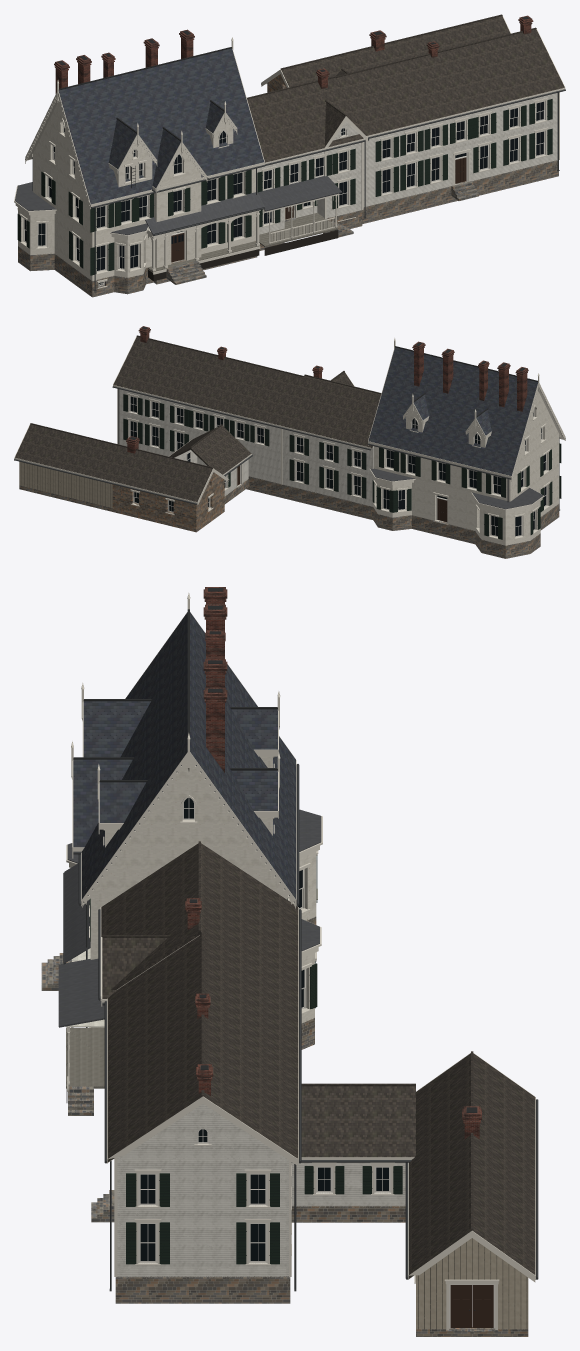
Rendered from foxleigh_reconstruction_002.glb.
The picture shows the model from 3 angles, top to bottom: view 1: azimuth 30°, elevation 25°; view 2: azimuth 150°, elevation 25°; view 3: azimuth 270°, elevation 25°; orthographic projection. The views are drawn at different scales.
Parts seen in each view (by area): view 1: core_slate_plan, trustees_shingle_plan, core_paintBrick_photo, trustees_siding_photo, frame_shingle_plan, service_shingle_plan, trustees_shutter_photo, core_trim_photo, core_paintBrick_plan, trustees_stone_plan, core_shutter_photo, trustees_glass_photo (+35 smaller); view 2: core_slate_plan, trustees_shingle_plan, service_shingle_plan, core_paintBrick_plan, frame_shingle_plan, trustees_siding_plan, service_annexStone_plan, frame_siding_plan, core_paintBrick_photo, core_stone_plan, service_batten_plan, core_trim_plan (+26 smaller); view 3: trustees_shingle_plan, service_shingle_plan, core_slate_plan, trustees_siding_plan, frame_shingle_plan, core_paintBrick_plan, core_slate_photo, service_batten_plan, trustees_stone_plan, trustees_trim_plan, core_trim_plan, trustees_shutter_plan (+17 smaller).
Part boxes in pixels (box(x1,y1,x2,y2)): core_slate_plan: box(58, 48, 264, 207); trustees_shingle_plan: box(335, 27, 564, 135); core_paintBrick_photo: box(33, 101, 233, 280); trustees_siding_photo: box(363, 93, 556, 207); frame_shingle_plan: box(247, 76, 363, 162); service_shingle_plan: box(280, 14, 510, 87); trustees_shutter_photo: box(375, 99, 552, 196); core_trim_photo: box(43, 101, 260, 288); core_paintBrick_plan: box(18, 154, 257, 267); trustees_stone_plan: box(362, 160, 558, 223); core_shutter_photo: box(41, 171, 190, 275); trustees_glass_photo: box(382, 101, 543, 192); core_slate_plan: box(368, 347, 537, 475); trustees_shingle_plan: box(113, 335, 303, 425); service_shingle_plan: box(15, 423, 251, 501); core_paintBrick_plan: box(373, 446, 540, 545); frame_shingle_plan: box(280, 374, 381, 448); trustees_siding_plan: box(119, 389, 280, 483); service_annexStone_plan: box(112, 472, 224, 532); frame_siding_plan: box(282, 429, 373, 506); core_paintBrick_photo: box(506, 391, 559, 516); core_stone_plan: box(373, 504, 559, 558); service_batten_plan: box(19, 461, 112, 507); core_trim_plan: box(368, 338, 565, 539); trustees_shingle_plan: box(107, 932, 298, 1162); service_shingle_plan: box(301, 1051, 535, 1278); core_slate_plan: box(81, 612, 295, 904); trustees_siding_plan: box(117, 1104, 289, 1277); frame_shingle_plan: box(101, 841, 298, 995); core_paintBrick_plan: box(89, 760, 316, 1027); core_slate_photo: box(73, 701, 150, 847); service_batten_plan: box(416, 1238, 528, 1329); trustees_stone_plan: box(115, 1276, 290, 1303); trustees_trim_plan: box(107, 996, 298, 1276); core_trim_plan: box(81, 592, 322, 1014); trustees_shutter_plan: box(126, 1173, 279, 1264).
Bounding box in the file's own units: 52.03 × 18.56 × 24.72.
Materials: 20 (13 with a texture image).
